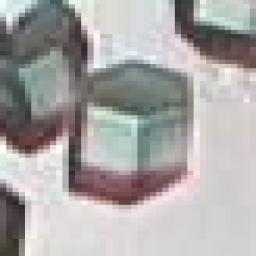crystals: (64, 54, 195, 213)
